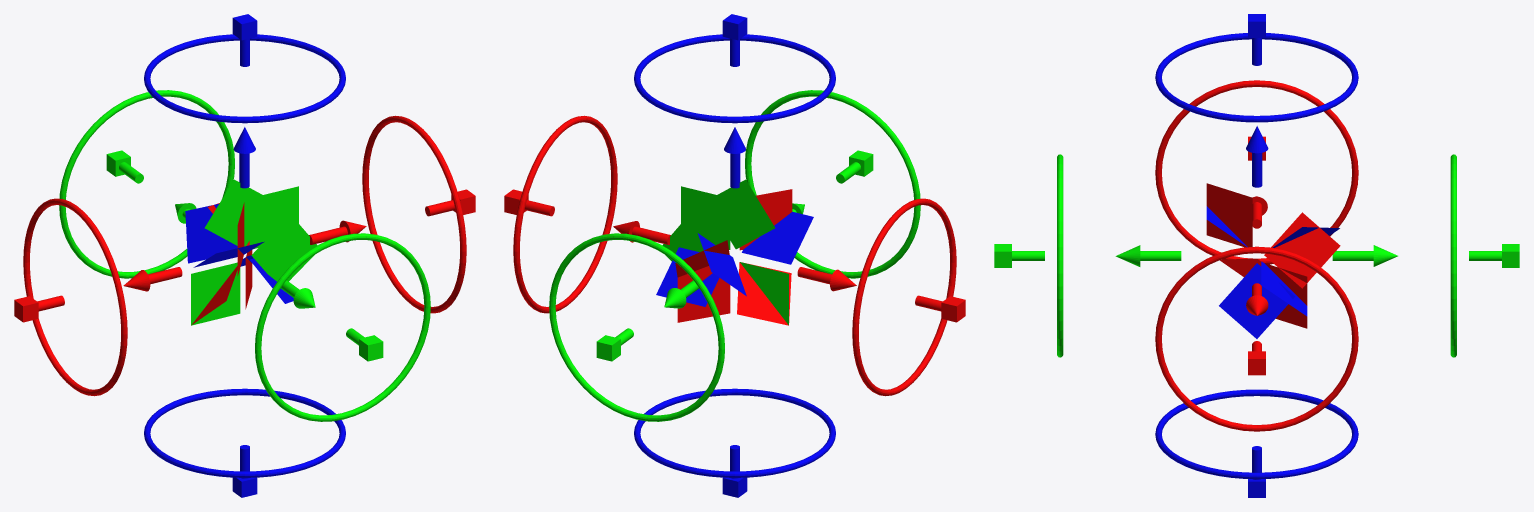
File: gizmoFbx.fbx
3 views of the same model, side by side, from view 1: azimuth 30°, elevation 25°; view 2: azimuth 150°, elevation 25°; view 3: azimuth 270°, elevation 25° (orthographic).
Visible parts, largest first — view 1: Torus.003, Torus.005, Torus.001, Torus.008, Torus.004, Torus.009, Plane.020, Plane.017, Plane.019, Plane.023, Plane.018, Cube.001 (+3 smaller); view 2: Torus.009, Torus.005, Torus.001, Torus.008, Torus.004, Torus.003, Plane.020, Plane.021, Plane.018, Plane.005, Plane.006, Plane.019 (+8 smaller); view 3: Torus.005, Torus.004, Torus.008, Torus.001, Plane.004, Plane.002, Plane.022, Torus.003, Torus.009, Plane.006, Plane.024.
Part boxes in pixels (x1,y1,x2,y2): Torus.003: [255, 233, 430, 421]; Torus.005: [362, 115, 466, 313]; Torus.001: [144, 34, 345, 123]; Torus.008: [144, 388, 345, 477]; Torus.004: [23, 198, 127, 396]; Torus.009: [59, 90, 234, 278]; Plane.020: [204, 179, 273, 246]; Plane.017: [251, 215, 317, 281]; Plane.019: [191, 262, 240, 325]; Plane.023: [185, 204, 237, 263]; Plane.018: [249, 186, 298, 249]; Cube.001: [232, 14, 257, 40]; Torus.009: [549, 233, 724, 421]; Torus.005: [513, 115, 617, 313]; Torus.001: [634, 34, 835, 123]; Torus.008: [634, 388, 835, 477]; Torus.004: [852, 198, 956, 396]; Torus.003: [745, 90, 920, 278]; Plane.020: [706, 179, 775, 249]; Plane.021: [742, 211, 813, 264]; Plane.018: [681, 186, 730, 249]; Plane.005: [737, 262, 791, 325]; Plane.006: [677, 266, 730, 322]; Plane.019: [740, 262, 788, 324]; Torus.005: [1155, 246, 1358, 431]; Torus.004: [1155, 80, 1358, 264]; Torus.008: [1155, 389, 1358, 479]; Torus.001: [1155, 33, 1358, 122]; Plane.004: [1264, 212, 1340, 288]; Plane.002: [1206, 183, 1252, 247]; Plane.022: [1219, 263, 1294, 338]; Torus.003: [1057, 154, 1063, 357]; Torus.009: [1450, 154, 1456, 357]; Plane.006: [1264, 263, 1307, 328]; Plane.024: [1261, 261, 1307, 316].
Bounding box in the file's own units: 267 × 267 × 267.
